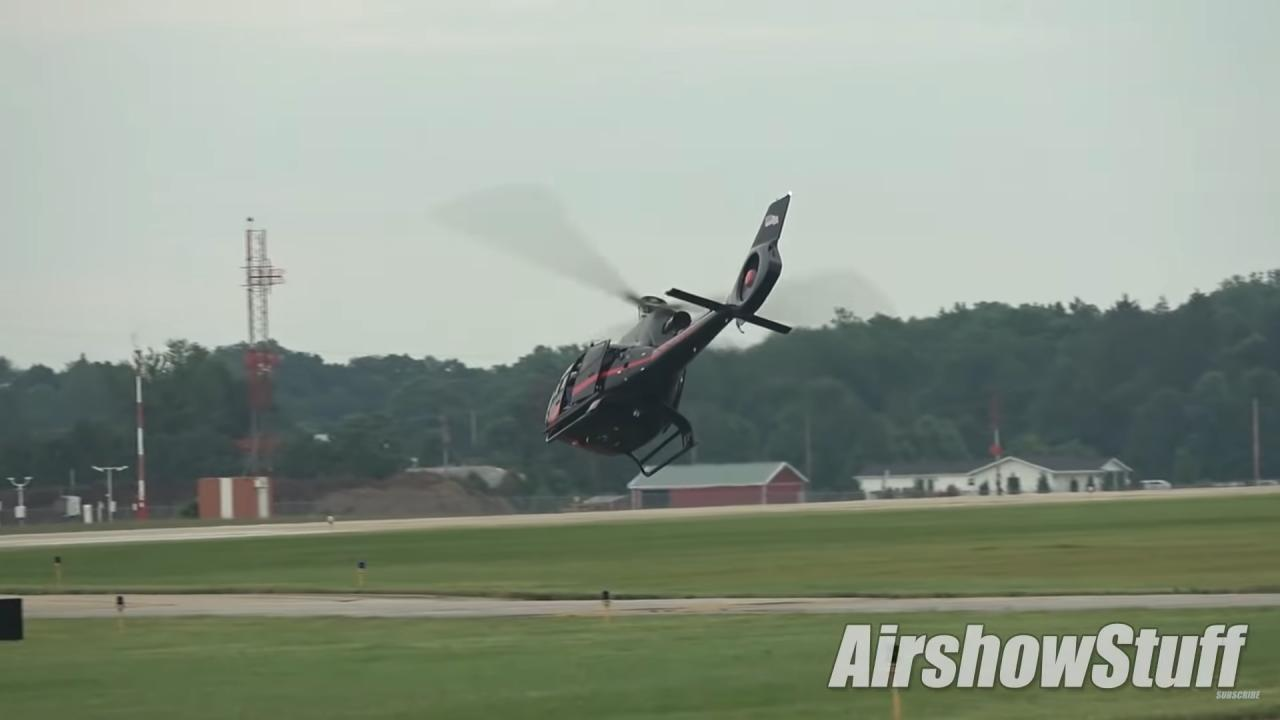Helicopter: (432, 170, 819, 483)
